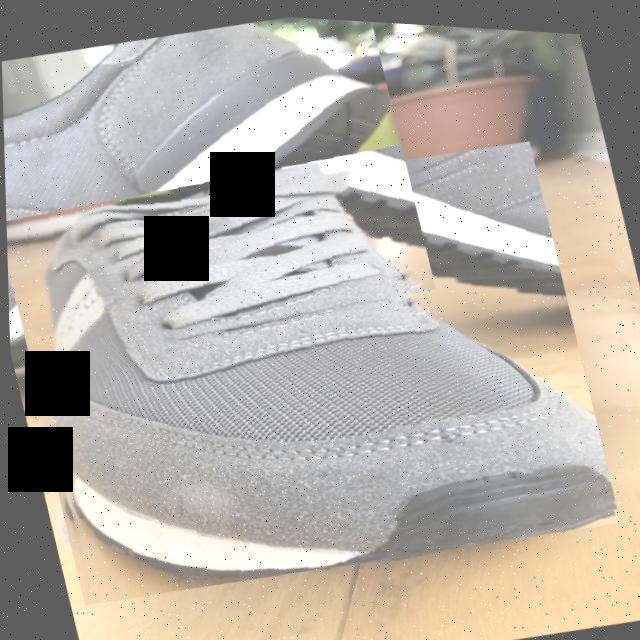shoe: (3, 109, 620, 628), (0, 0, 439, 390)
